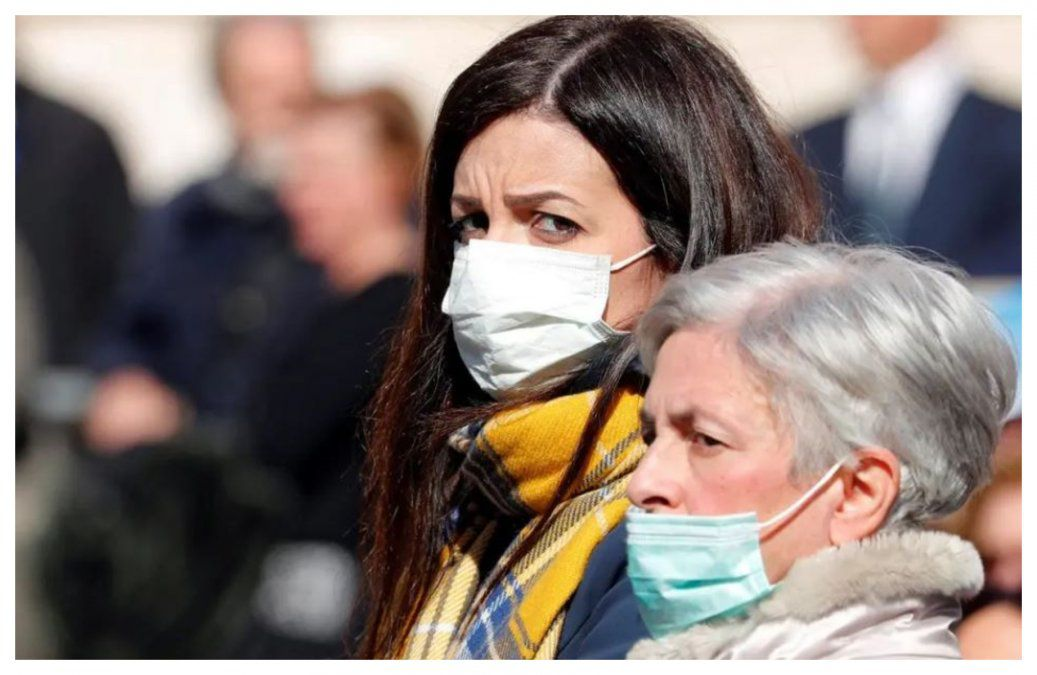barbijo: (606, 477, 829, 643), (439, 232, 646, 401)
